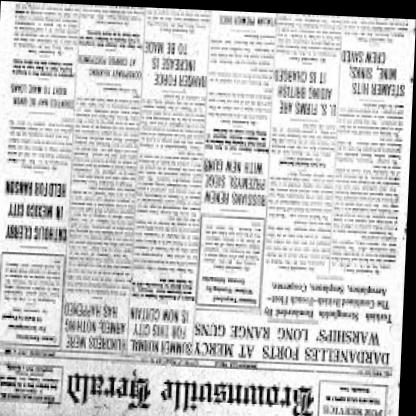Paper: (0, 1, 412, 416)
